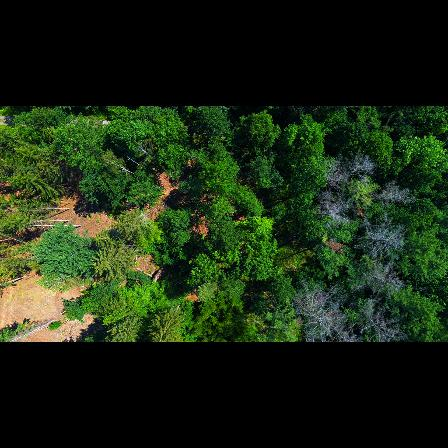Dead: (346, 298, 407, 341), (292, 287, 338, 340), (317, 154, 371, 193), (351, 219, 406, 253), (369, 180, 420, 210), (312, 196, 352, 228)
